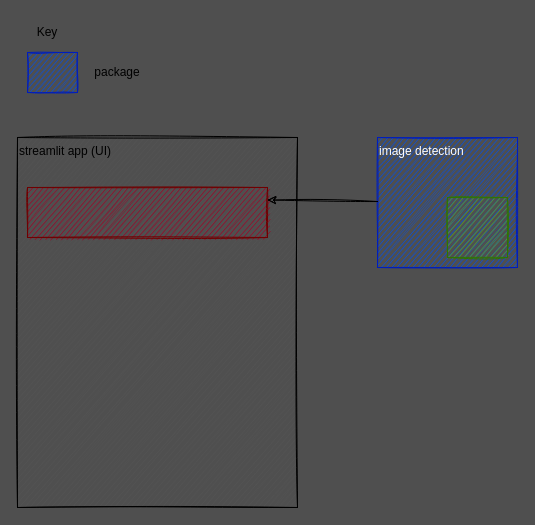
Image size: 535x525. Some labels were removed from this diagram. Each missing label, with the centre of its shape:
"object detection page" goes at (147,212).
"tests" goes at (477,227).
